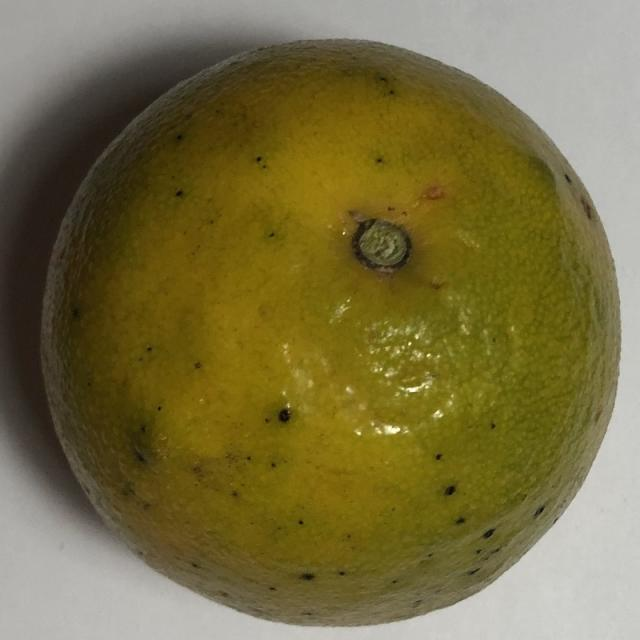blackspot: (15, 26, 626, 636)
